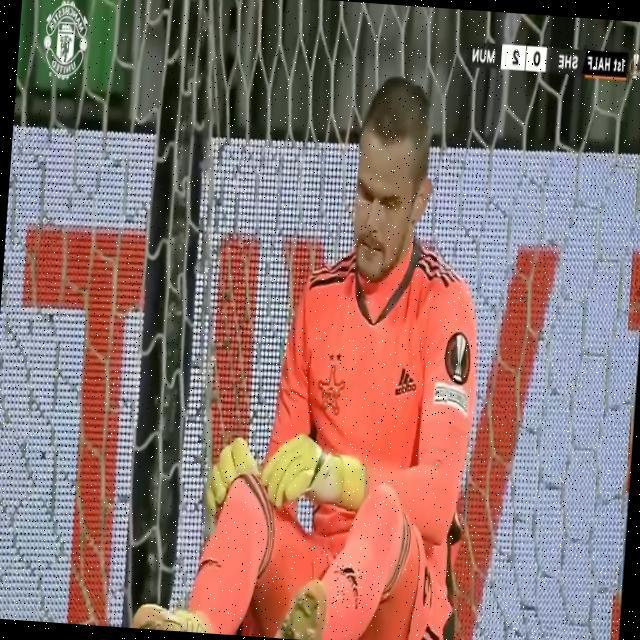Adidas: (329, 560, 363, 610), (392, 362, 418, 400)
